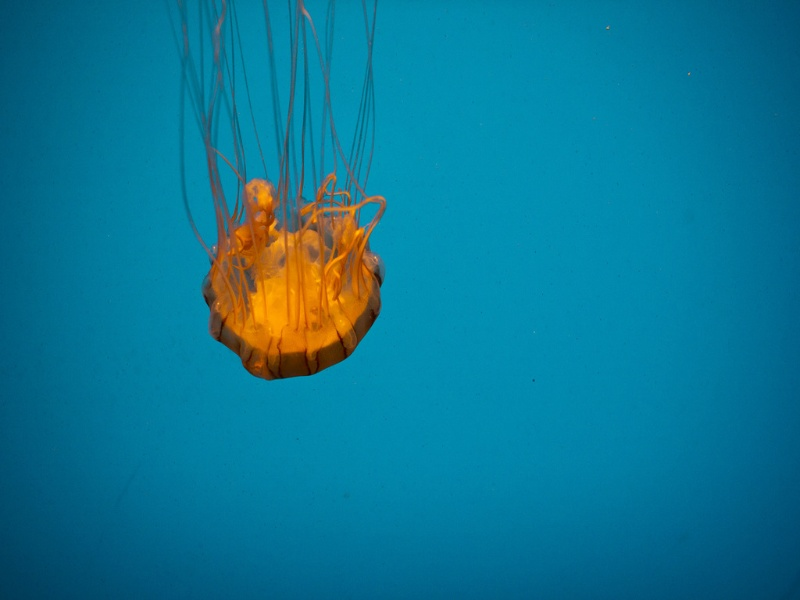Jellyfish: (155, 7, 403, 401)
